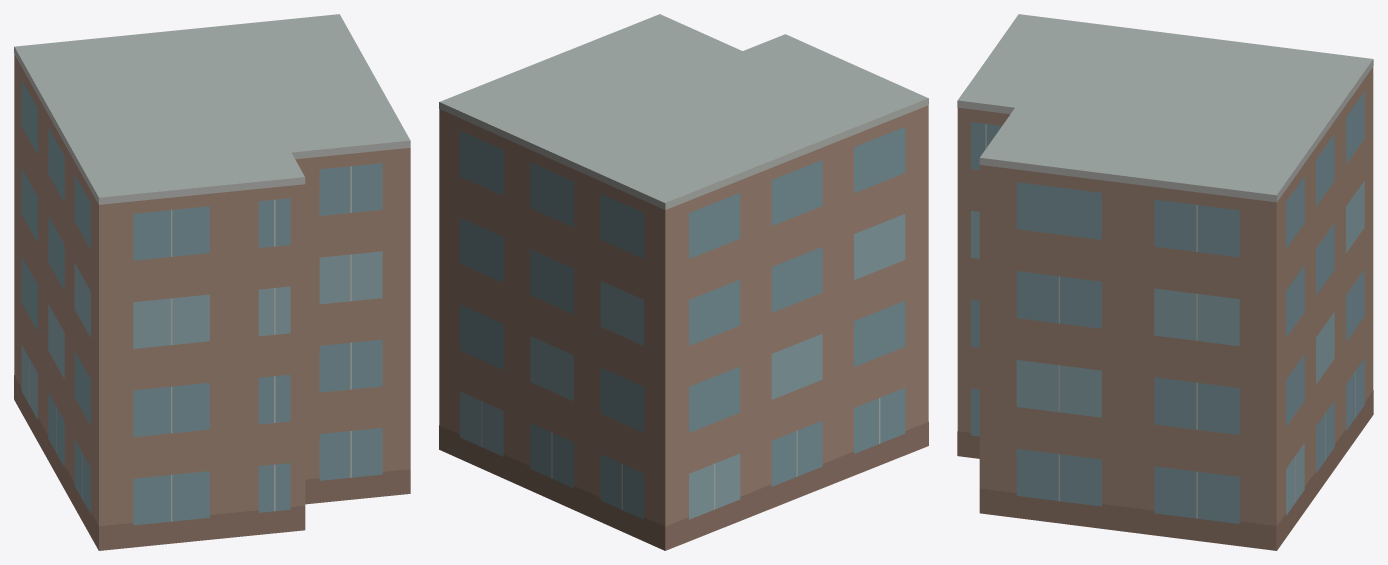
The model's file is residential-1deb9a9f-09a9-42ba-8364-4fb7c501ace6.glb.
3 renders of one model, left to right at view 1: azimuth 30°, elevation 25°; view 2: azimuth 150°, elevation 25°; view 3: azimuth 270°, elevation 25°, orthographic. The views are drawn at different scales.
Visible parts, largest first — view 1: residential-1deb9a9f-09a9-42ba-8364-4fb7c501ace6.tmp; view 2: residential-1deb9a9f-09a9-42ba-8364-4fb7c501ace6.tmp; view 3: residential-1deb9a9f-09a9-42ba-8364-4fb7c501ace6.tmp.
Part boxes in pixels (x1,y1,x2,y2): residential-1deb9a9f-09a9-42ba-8364-4fb7c501ace6.tmp: [14, 14, 410, 550]; residential-1deb9a9f-09a9-42ba-8364-4fb7c501ace6.tmp: [439, 14, 928, 550]; residential-1deb9a9f-09a9-42ba-8364-4fb7c501ace6.tmp: [957, 14, 1373, 550].
Size of the model in its own units: 13.35 by 12.2 by 12.95.
